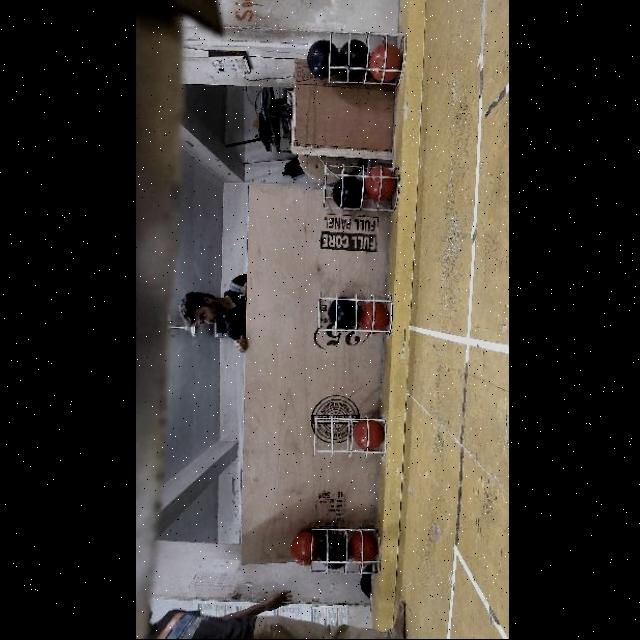P: (305, 40, 339, 79), (337, 38, 367, 76), (328, 299, 358, 331), (333, 178, 361, 210), (318, 538, 346, 570)
R: (350, 421, 384, 454), (368, 44, 399, 80), (364, 168, 394, 202), (290, 532, 318, 567), (358, 304, 388, 334), (348, 534, 376, 566)
S: (316, 162, 400, 215), (304, 526, 382, 578), (324, 33, 398, 87), (317, 293, 397, 339), (308, 414, 386, 458)
